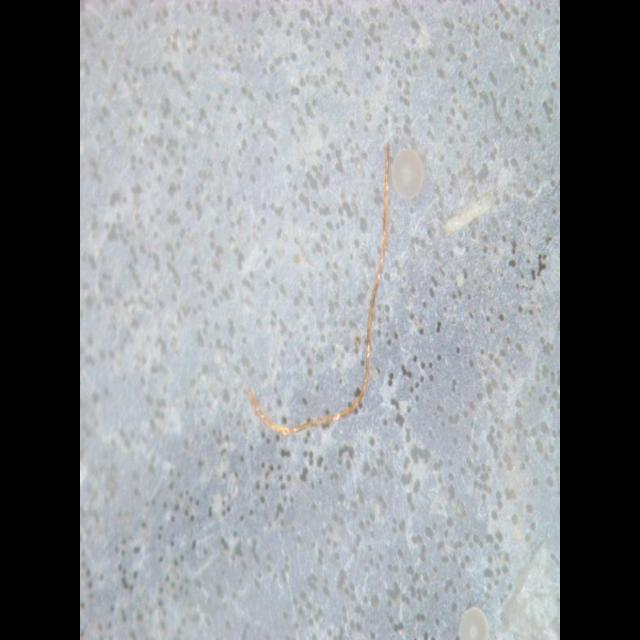Fibre: (246, 142, 390, 436)
